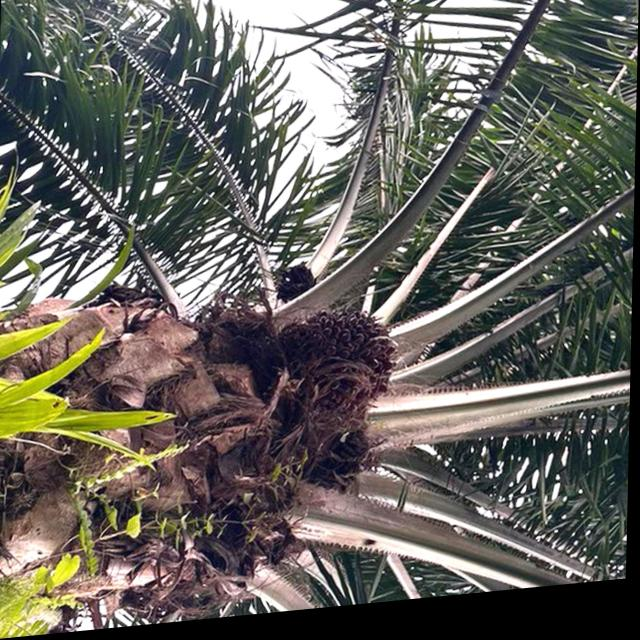ripe: (282, 307, 404, 431)
